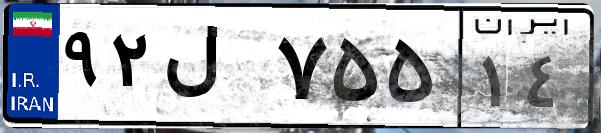1: (475, 38, 525, 113)
2: (110, 28, 158, 98)
4: (525, 38, 570, 115)
5: (385, 28, 445, 110), (330, 28, 385, 110)
7: (270, 28, 330, 110)
9: (57, 26, 110, 100)
ل: (158, 20, 270, 120)
